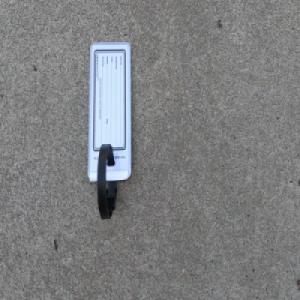LuggageTag: (87, 38, 133, 223)
